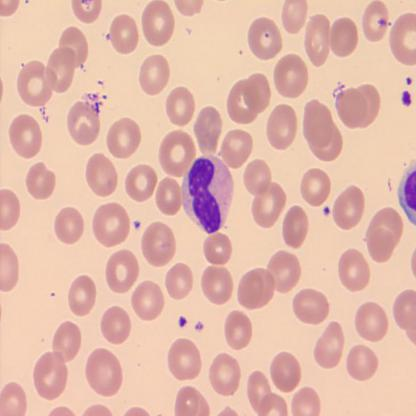Metamyelocyte: (179, 152, 236, 236)
